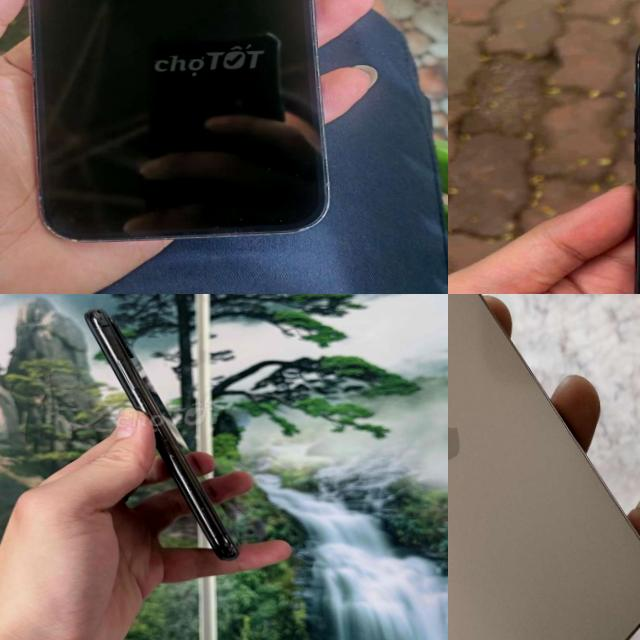scratch: (16, 178, 363, 258), (263, 0, 358, 250)
